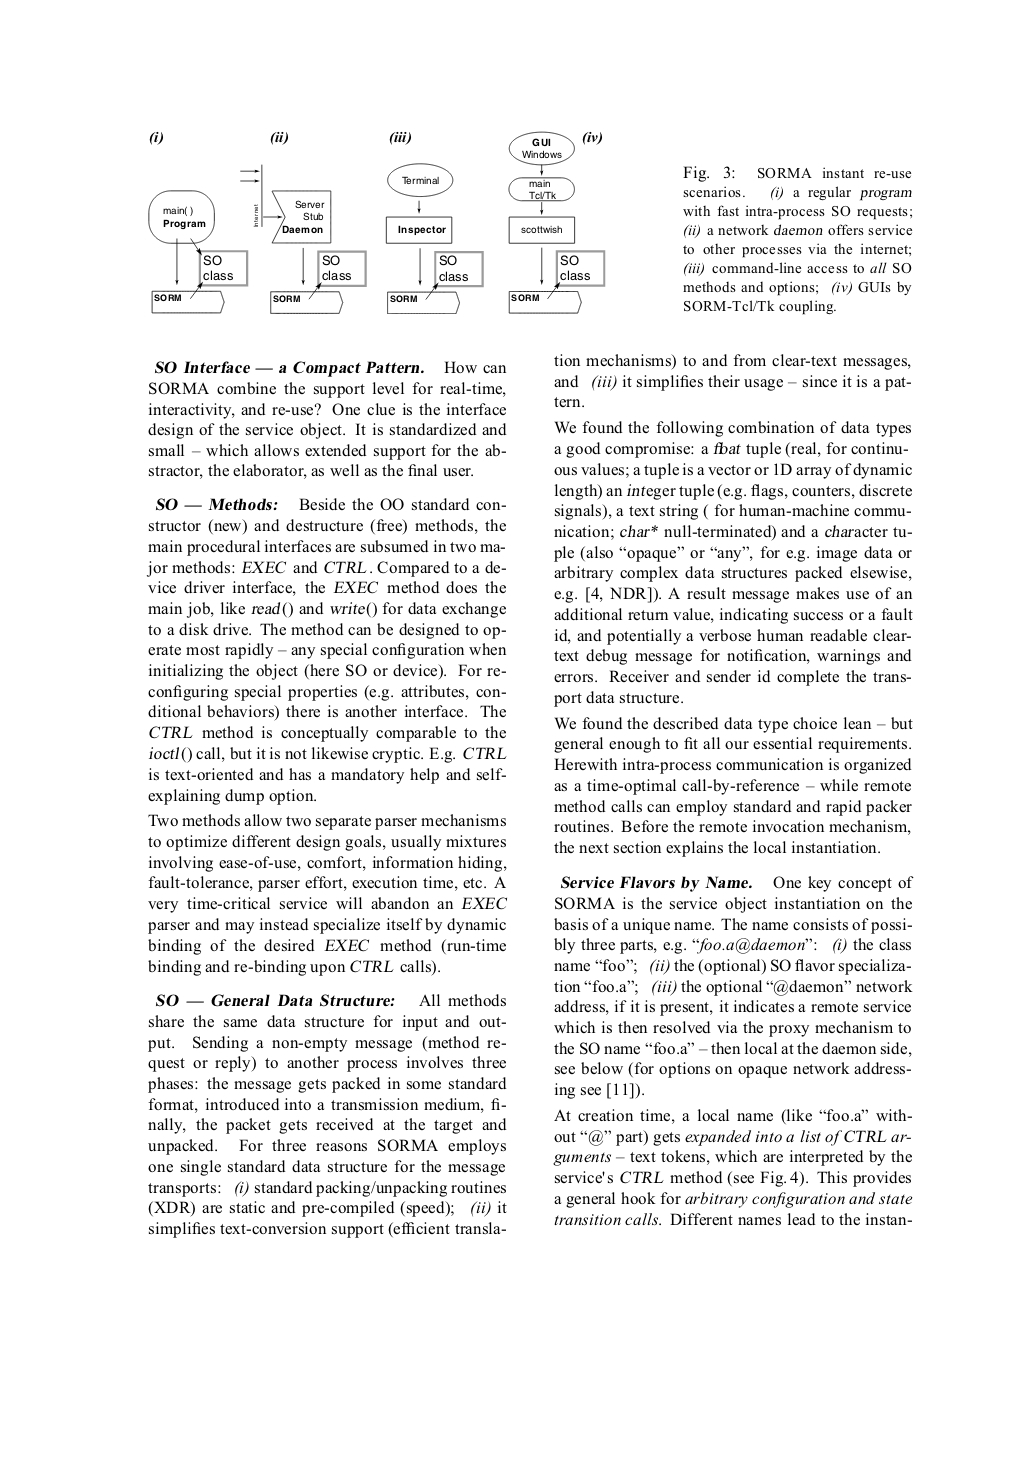figure: (148, 131, 605, 313)
